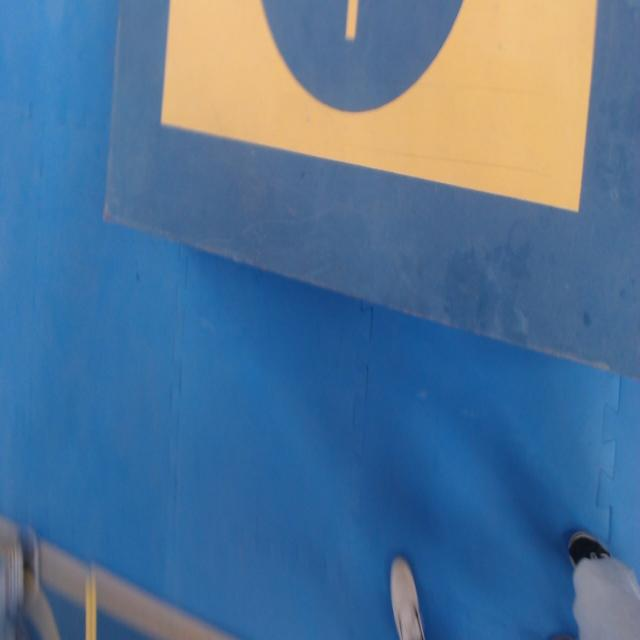base_inicio: (163, 0, 598, 213)
